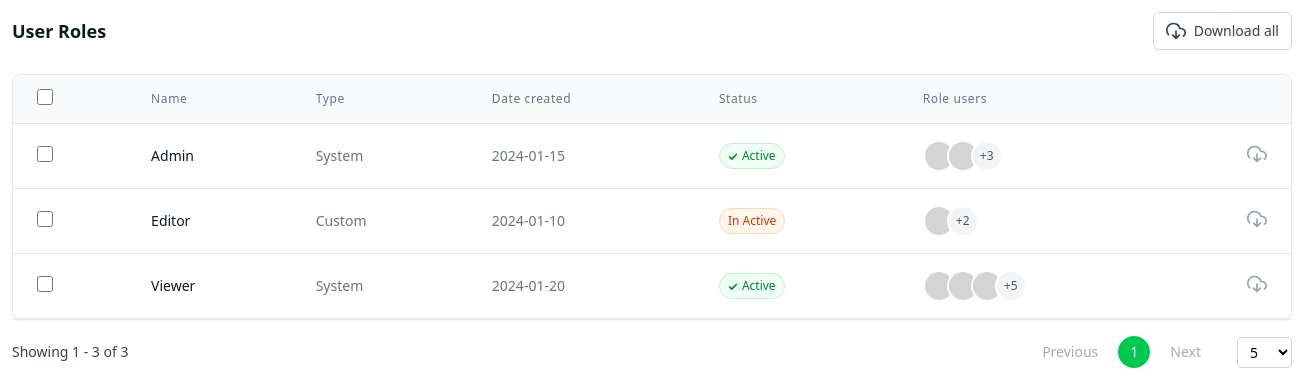
it: UserRoleTable › Row Selection › handles select all functionality
Expected: the text "Admin" is shown, [127,124,292,188]
Click the 1st checkbox. click: (45, 97)
box: [37,89,53,105]
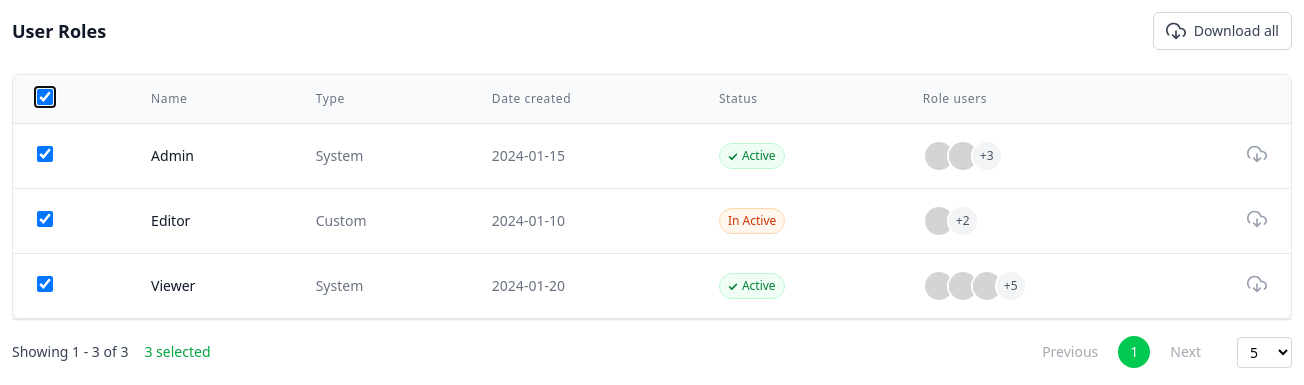
Expected: the text "3 selected" is shown, [144,342,210,362]
